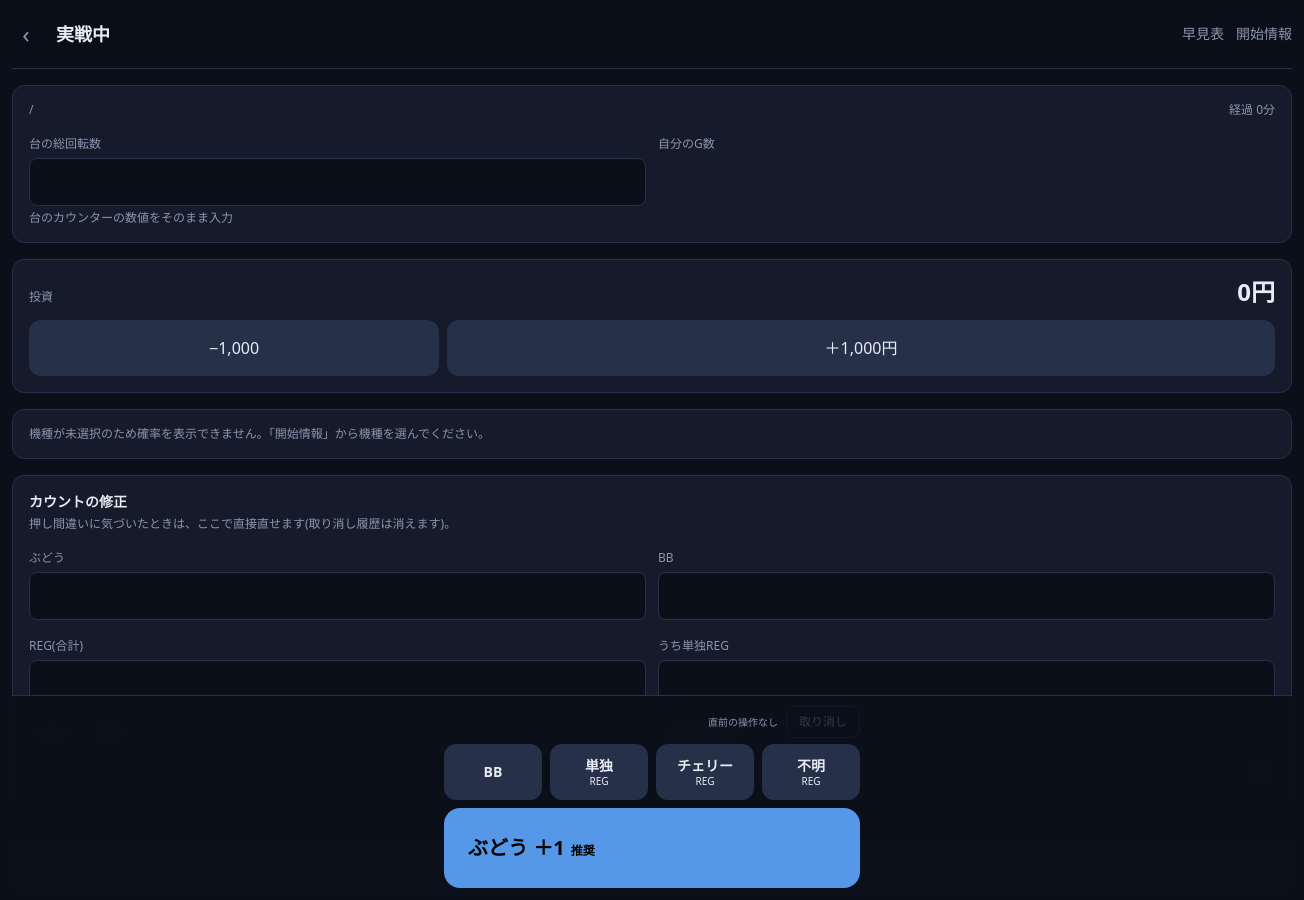
Scenario: 実戦中 › 画面を離れずに早見表を開ける
Click the button "早見表": [1203, 34] box [1182,24,1224,44]
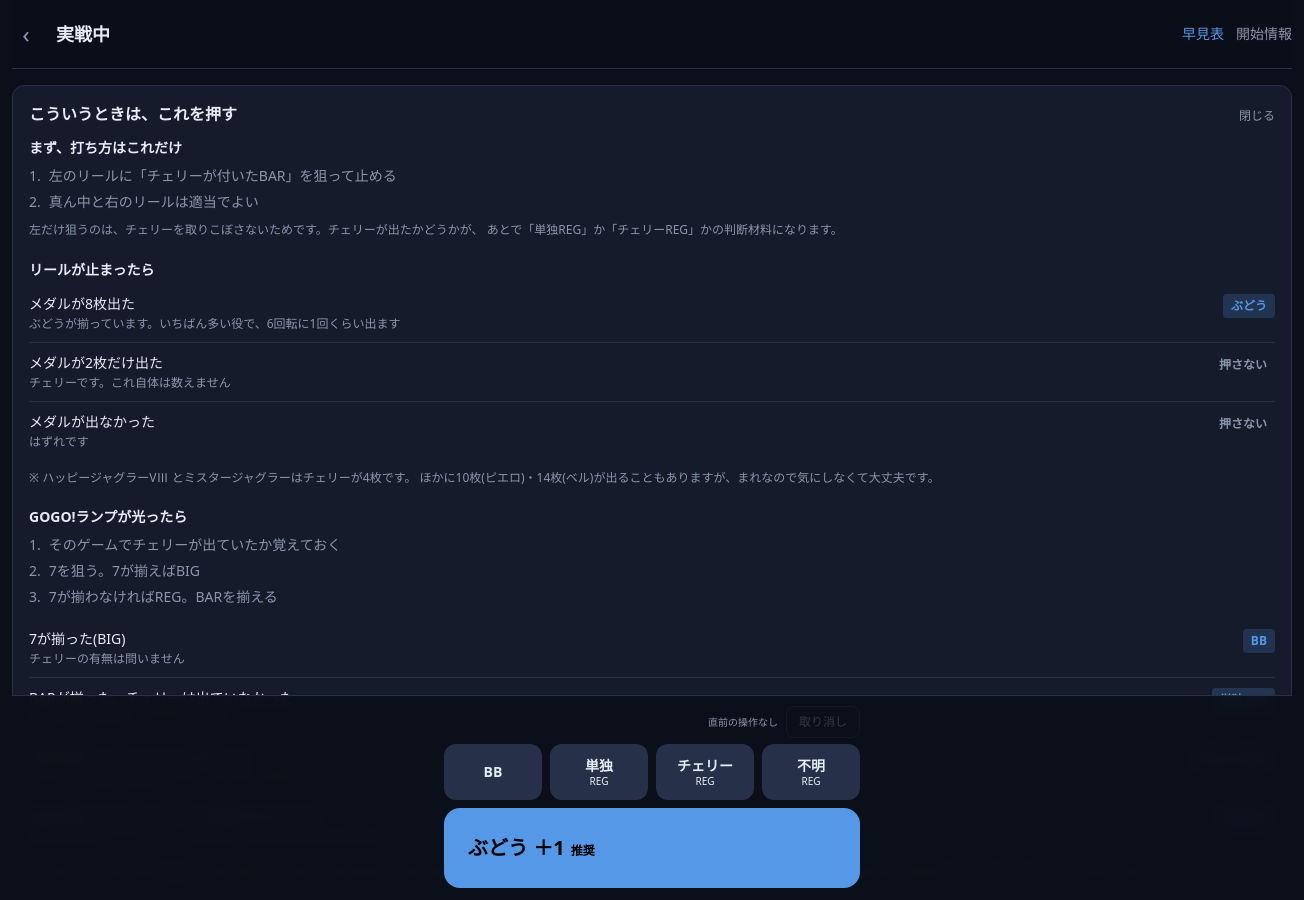
Now the text "メダルが8枚出た" is shown, box [29,294,135,312]
